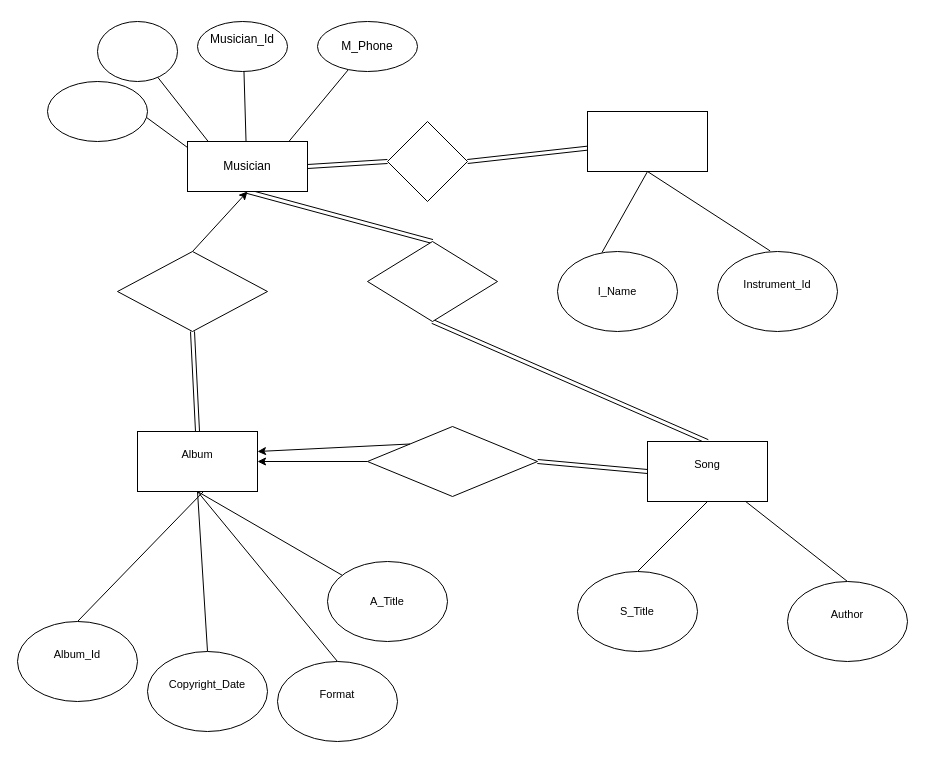
The diagram is 925 pixels wide and 759 high, and some of its shapes have lost their labels. Each missing label, with the centre of its shape:
"Contains" belongs at (x=452, y=461).
"Instrument" belongs at (x=647, y=141).
"M_Address" belongs at (x=97, y=111).
"M_Name" belongs at (x=137, y=51).
"Performs" belongs at (x=432, y=281).
"Plays" belongs at (x=427, y=161).
"Produces" belongs at (x=192, y=291).
